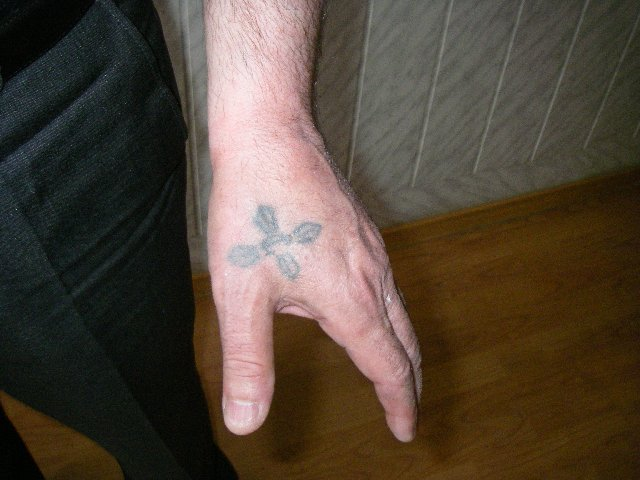tatu9_krest: (217, 198, 328, 283)
